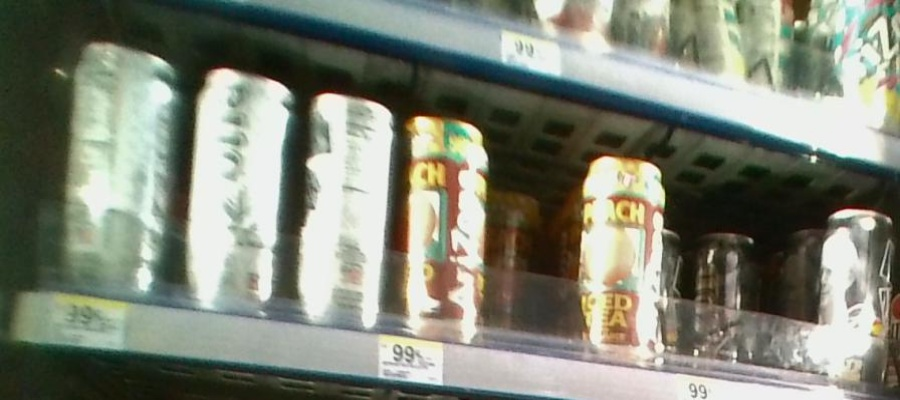bottle: (61, 26, 182, 308), (181, 53, 297, 321), (303, 69, 393, 340), (398, 86, 487, 347), (577, 155, 669, 368), (815, 198, 899, 400), (490, 175, 552, 343), (697, 219, 757, 372)
